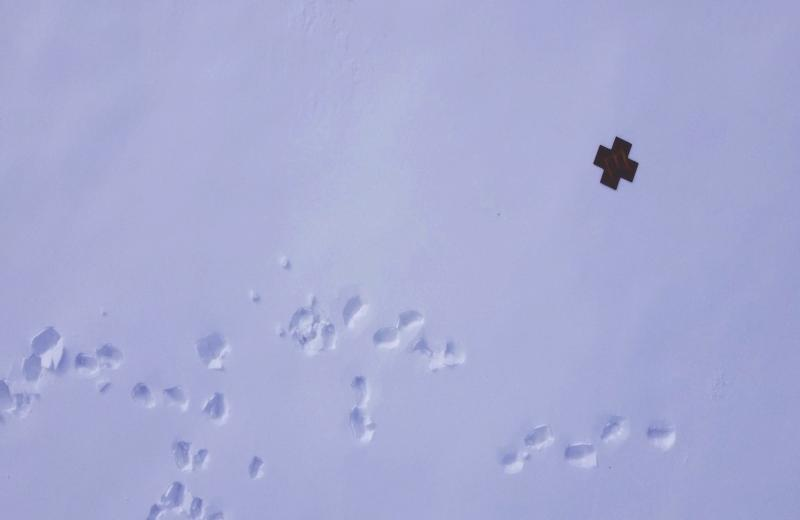Cross: (593, 137, 639, 192)
